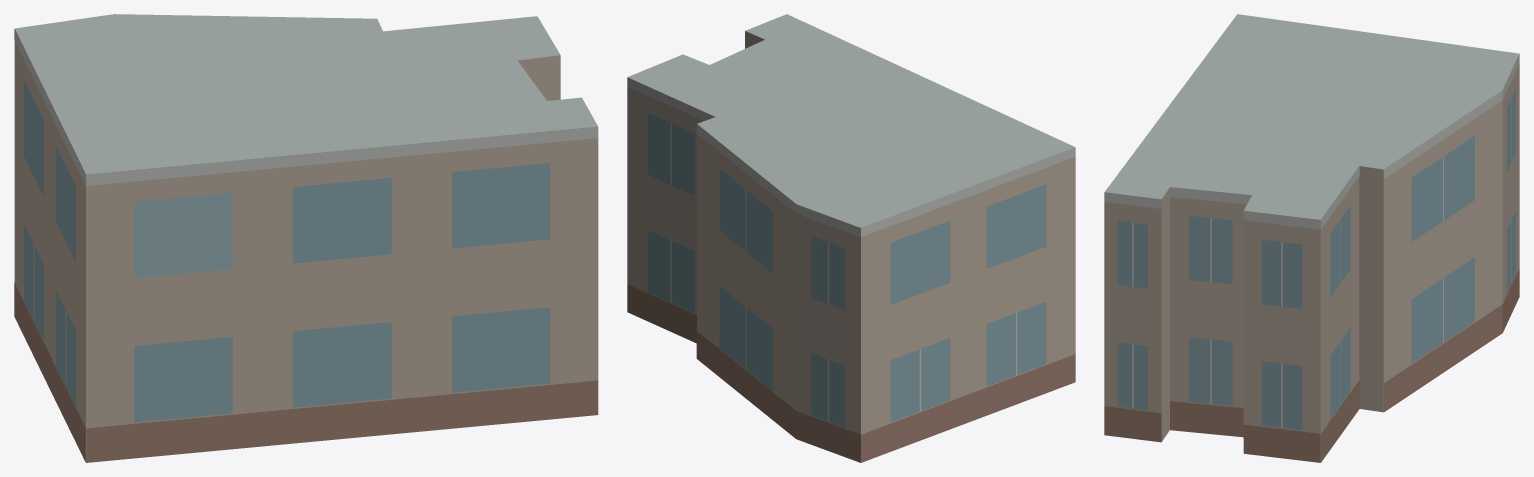
The model's file is survey-upis-32777900.glb.
The picture shows the model from 3 angles, left to right: view 1: azimuth 30°, elevation 25°; view 2: azimuth 150°, elevation 25°; view 3: azimuth 270°, elevation 25°; orthographic projection. The views are drawn at different scales.
Visible parts, largest first — view 1: survey-upis-32777900.tmp; view 2: survey-upis-32777900.tmp; view 3: survey-upis-32777900.tmp.
Boxes of the visible parts, bbox=[...] form: survey-upis-32777900.tmp: bbox=[14, 14, 598, 462]; survey-upis-32777900.tmp: bbox=[627, 14, 1075, 462]; survey-upis-32777900.tmp: bbox=[1104, 14, 1519, 462].
Size of the model in its own units: 11.1 by 6.1 by 9.46.
